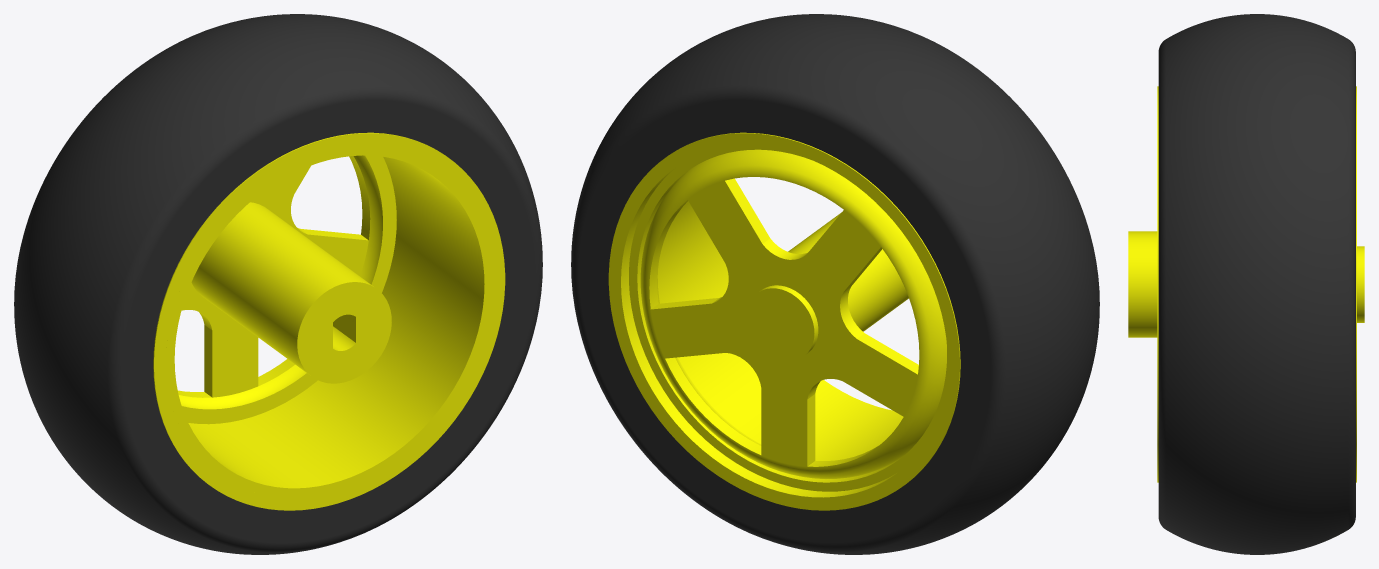
File: wheel.obj
The picture shows the model from 3 angles, left to right: view 1: azimuth 30°, elevation 25°; view 2: azimuth 150°, elevation 25°; view 3: azimuth 270°, elevation 25°; orthographic projection. The views are drawn at different scales.
Visible parts, largest first — view 1: Body24, Body23; view 2: Body24, Body23; view 3: Body24, Body23.
Boxes of the visible parts, left/top/right/bottom form: Body24: left=14, top=14, right=542, bottom=554; Body23: left=153, top=132, right=505, bottom=510; Body24: left=571, top=14, right=1099, bottom=554; Body23: left=608, top=132, right=960, bottom=510; Body24: left=1158, top=14, right=1355, bottom=554; Body23: left=1128, top=86, right=1364, bottom=482.
Bounding box in the file's own units: 70.48 × 70.48 × 30.8.
